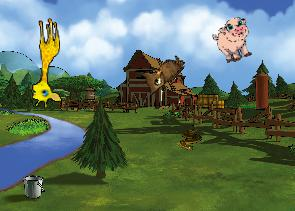giraffe: (27, 17, 62, 108)
owl: (135, 45, 187, 98)
pig: (209, 14, 259, 66)
